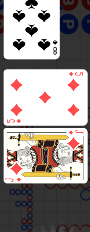5D: (68, 70, 85, 77)
JD: (68, 129, 85, 135)
